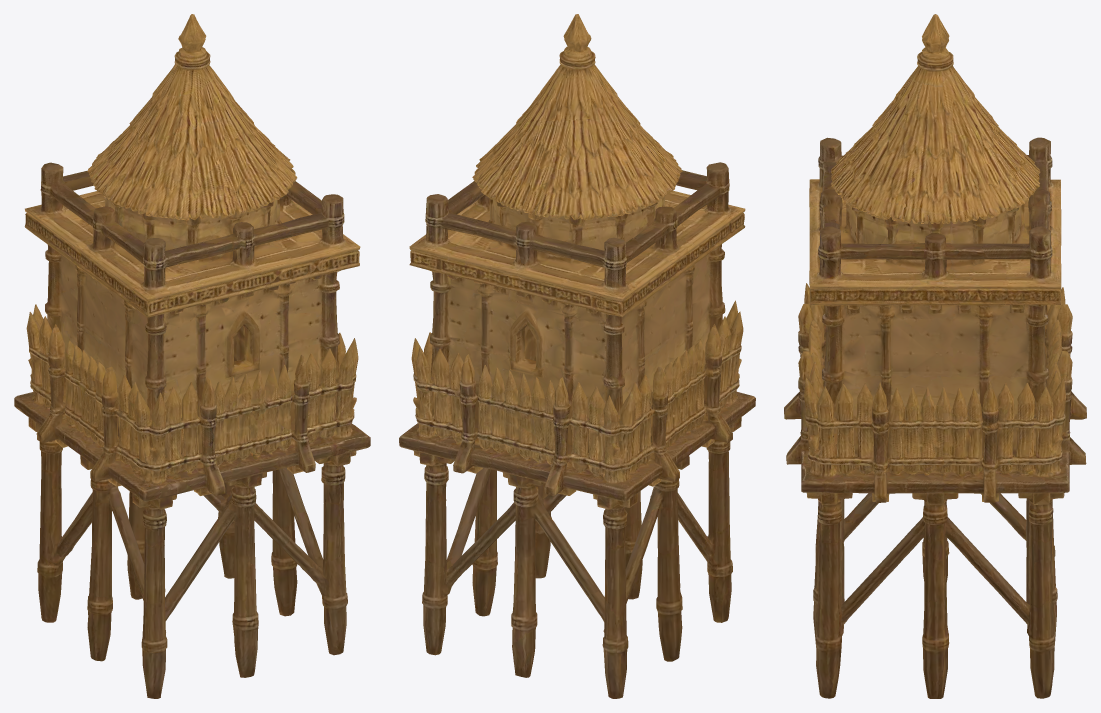
File: ReedOutpost.glb
3 renders of one model, left to right at view 1: azimuth 30°, elevation 25°; view 2: azimuth 150°, elevation 25°; view 3: azimuth 270°, elevation 25°, orthographic. The views are drawn at different scales.
Bounding box in the file's own units: 0.8084 × 1.9 × 0.8191.
Materials: 1 (1 with a texture image).
